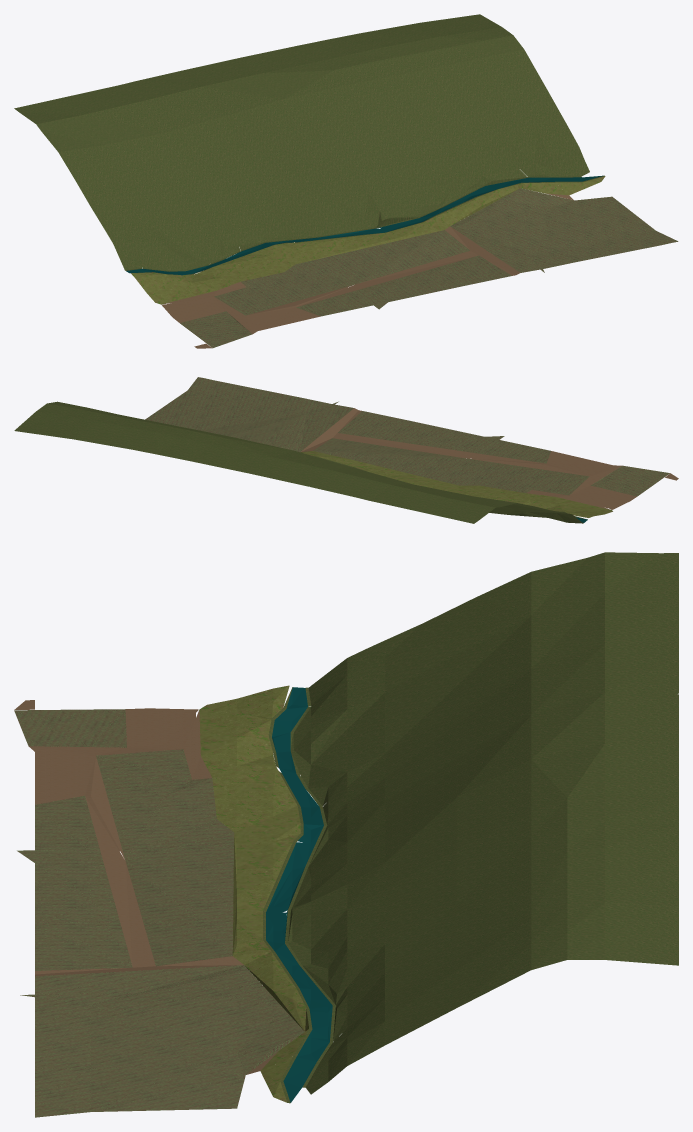
The model's file is Terreno002.fbx.
3 renders of one model, top to bottom at view 1: azimuth 30°, elevation 25°; view 2: azimuth 150°, elevation 25°; view 3: azimuth 270°, elevation 25°, orthographic. The views are drawn at different scales.
Visible parts, largest first — view 1: Terreno.002; view 2: Terreno.002; view 3: Terreno.002.
Boxes of the visible parts, x1=… form: Terreno.002: x1=14, y1=14, x2=678, y2=348; Terreno.002: x1=14, y1=377, x2=678, y2=523; Terreno.002: x1=14, y1=552, x2=678, y2=1117.
Size of the model in its own units: 29194 by 6173 by 20655.
